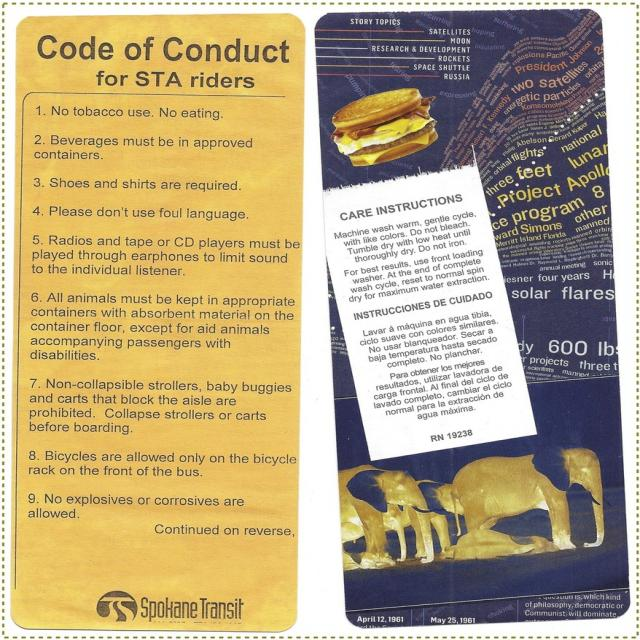elephant: (452, 451, 613, 543)
